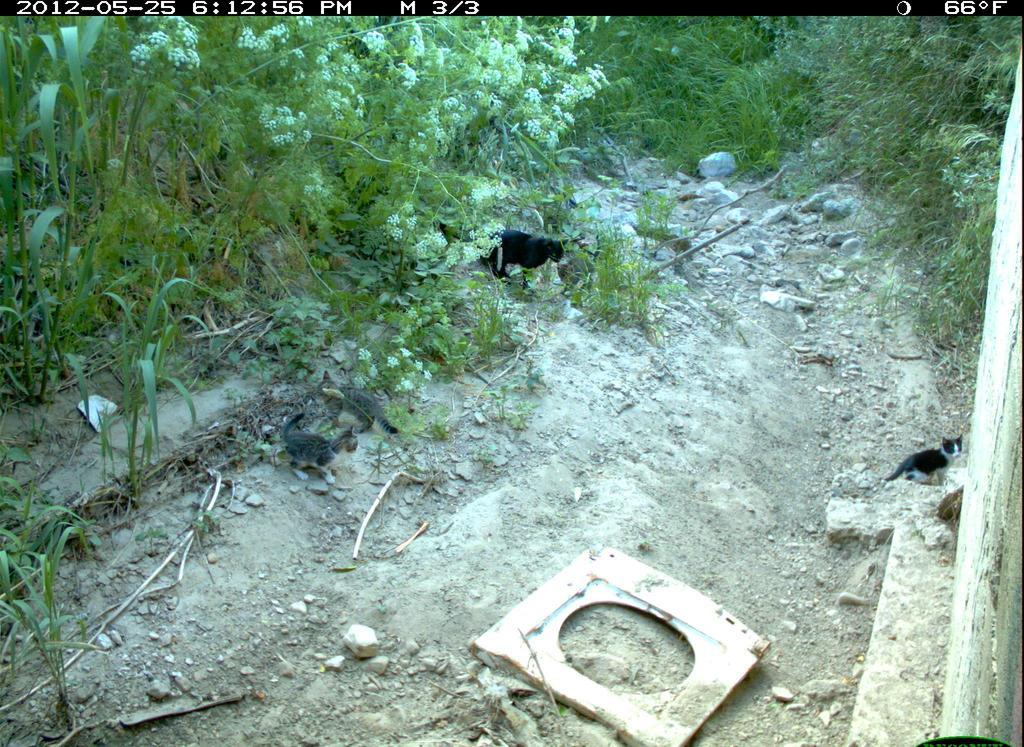cat: (472, 226, 575, 292)
